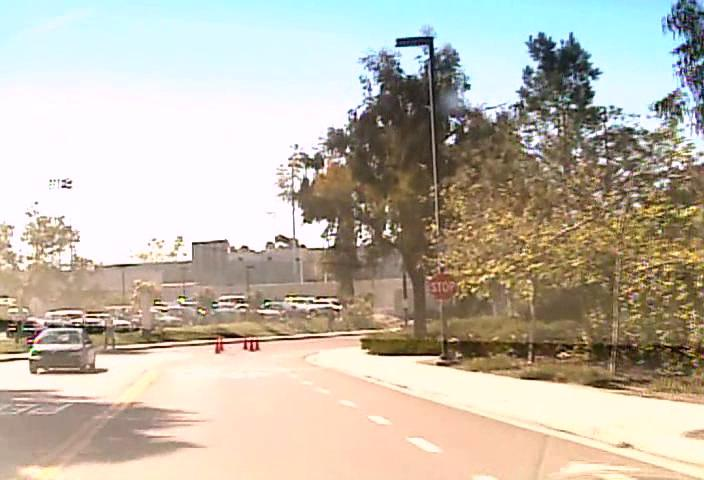stop: (428, 271, 457, 300)
